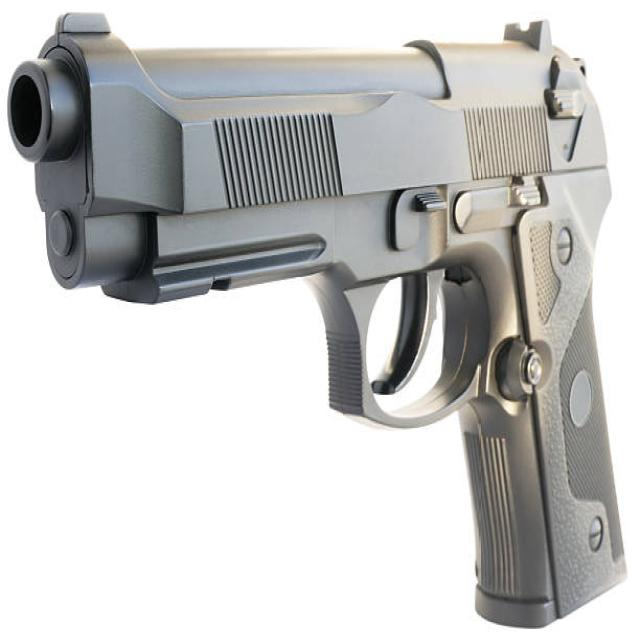pistol: (1, 2, 640, 640)
